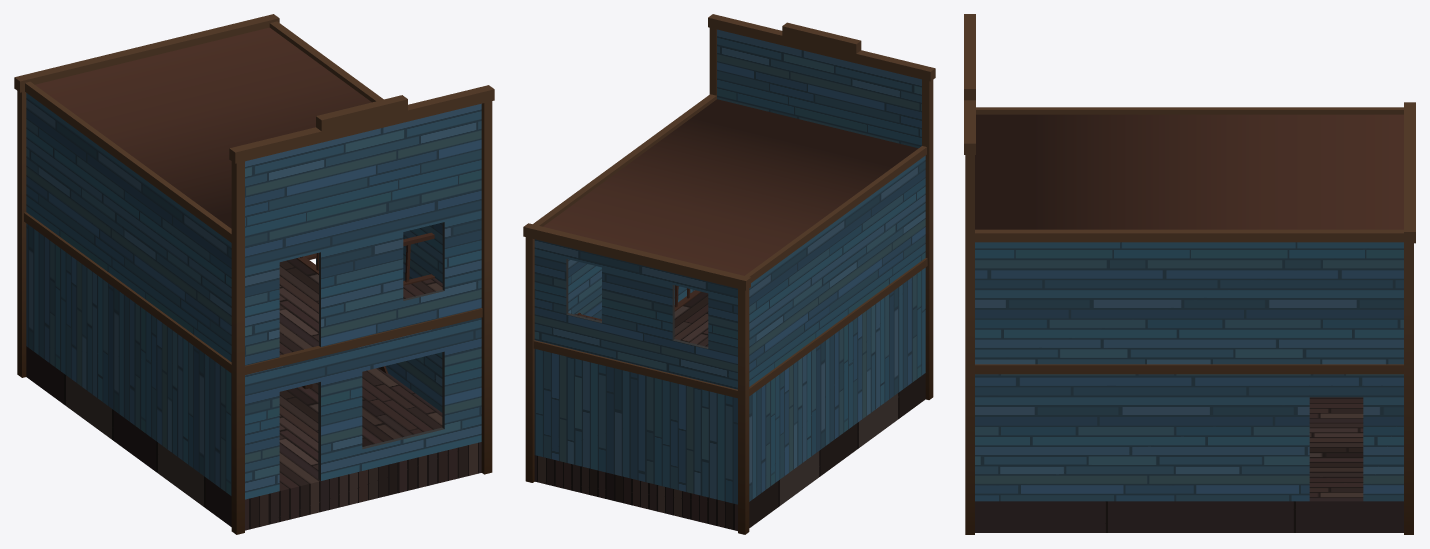
Rendered from House 6 M Blue.glb.
3 renders of one model, left to right at view 1: azimuth 30°, elevation 25°; view 2: azimuth 150°, elevation 25°; view 3: azimuth 270°, elevation 25°, orthographic. The views are drawn at different scales.
Parts seen in each view (by area): view 1: House 6 M Blue; view 2: House 6 M Blue; view 3: House 6 M Blue.
Part boxes in pixels (x1=…): House 6 M Blue: x1=14, y1=14, x2=494, y2=534; House 6 M Blue: x1=523, y1=14, x2=935, y2=534; House 6 M Blue: x1=964, y1=14, x2=1415, y2=534.
Size of what is drawn, in the model's own units: 6.29 by 9.13 by 9.27.
Materials: 3 (3 with a texture image).
